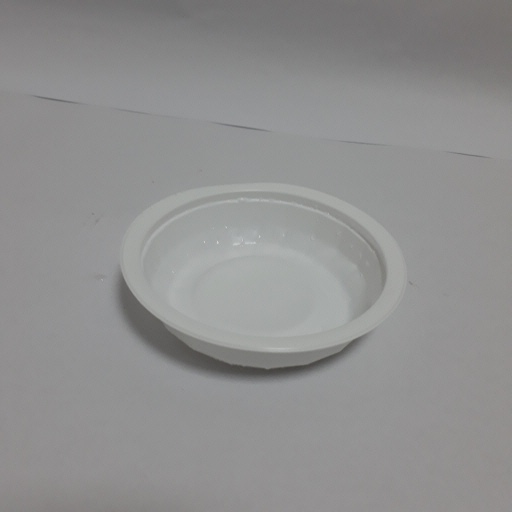Plastic_5: (117, 179, 411, 375)
